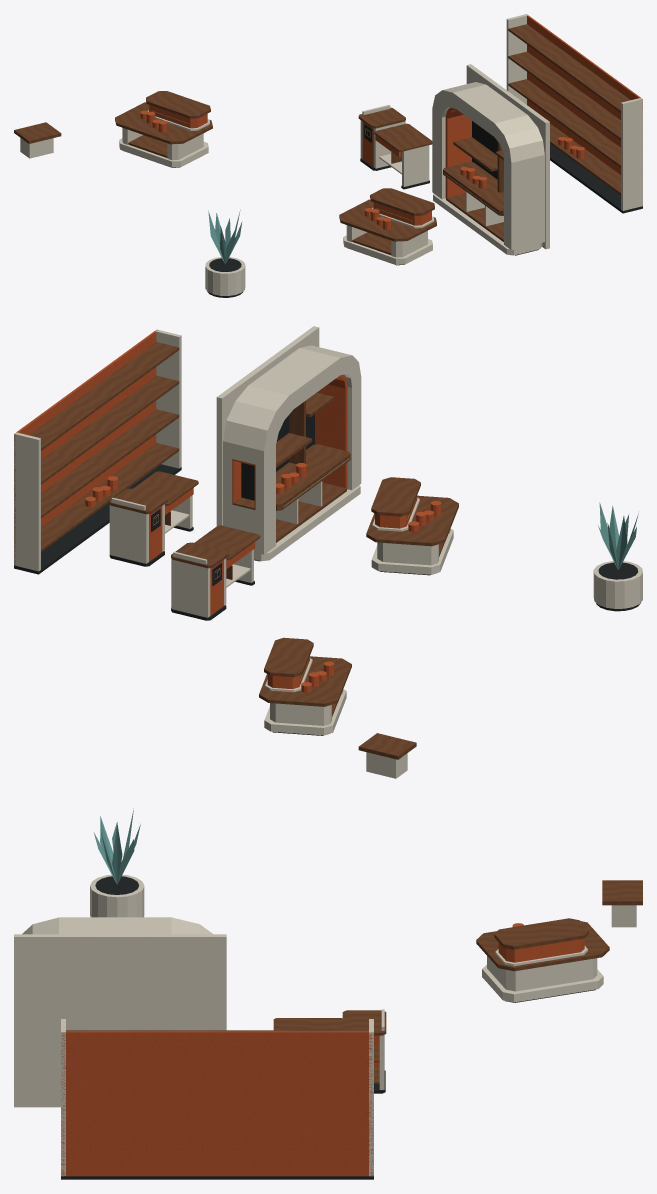
Rendered from SHOP_D09_S100_A106__fitout.glb.
3 views of the same model, one above another, from view 1: azimuth 30°, elevation 25°; view 2: azimuth 150°, elevation 25°; view 3: azimuth 270°, elevation 25° (orthographic). The views are drawn at different scales.
Parts seen in each view (by area): view 1: SHOP_D09_S100_A106__fitout__ivory_enamel, SHOP_D09_S100_A106__fitout__warm_walnut, SHOP_D09_S100_A106__fitout__retail_terracotta_enamel, SHOP_D09_S100_A106__fitout__dark_rubber, SHOP_D09_S100_A106__fitout__quiet_teal; view 2: SHOP_D09_S100_A106__fitout__ivory_enamel, SHOP_D09_S100_A106__fitout__warm_walnut, SHOP_D09_S100_A106__fitout__retail_terracotta_enamel, SHOP_D09_S100_A106__fitout__dark_rubber, SHOP_D09_S100_A106__fitout__quiet_teal; view 3: SHOP_D09_S100_A106__fitout__retail_terracotta_enamel, SHOP_D09_S100_A106__fitout__ivory_enamel, SHOP_D09_S100_A106__fitout__warm_walnut, SHOP_D09_S100_A106__fitout__dark_rubber, SHOP_D09_S100_A106__fitout__quiet_teal.
Part boxes in pixels (left/top/right/bottom): SHOP_D09_S100_A106__fitout__ivory_enamel: left=20, top=14, right=642, bottom=295; SHOP_D09_S100_A106__fitout__warm_walnut: left=14, top=24, right=630, bottom=254; SHOP_D09_S100_A106__fitout__retail_terracotta_enamel: left=140, top=14, right=642, bottom=229; SHOP_D09_S100_A106__fitout__dark_rubber: left=124, top=121, right=642, bottom=297; SHOP_D09_S100_A106__fitout__quiet_teal: left=208, top=210, right=242, bottom=264; SHOP_D09_S100_A106__fitout__ivory_enamel: left=14, top=326, right=642, bottom=778; SHOP_D09_S100_A106__fitout__warm_walnut: left=29, top=342, right=458, bottom=759; SHOP_D09_S100_A106__fitout__retail_terracotta_enamel: left=14, top=330, right=441, bottom=692; SHOP_D09_S100_A106__fitout__dark_rubber: left=14, top=414, right=640, bottom=735; SHOP_D09_S100_A106__fitout__quiet_teal: left=598, top=502, right=638, bottom=570; SHOP_D09_S100_A106__fitout__retail_terracotta_enamel: left=61, top=923, right=584, bottom=1176; SHOP_D09_S100_A106__fitout__ivory_enamel: left=14, top=874, right=636, bottom=1176; SHOP_D09_S100_A106__fitout__warm_walnut: left=66, top=880, right=642, bottom=1083; SHOP_D09_S100_A106__fitout__dark_rubber: left=61, top=876, right=595, bottom=1179; SHOP_D09_S100_A106__fitout__quiet_teal: left=93, top=808, right=140, bottom=884.
Size of the model in its own units: 10.28 by 3 by 10.05.
6 materials, 5 textured.
